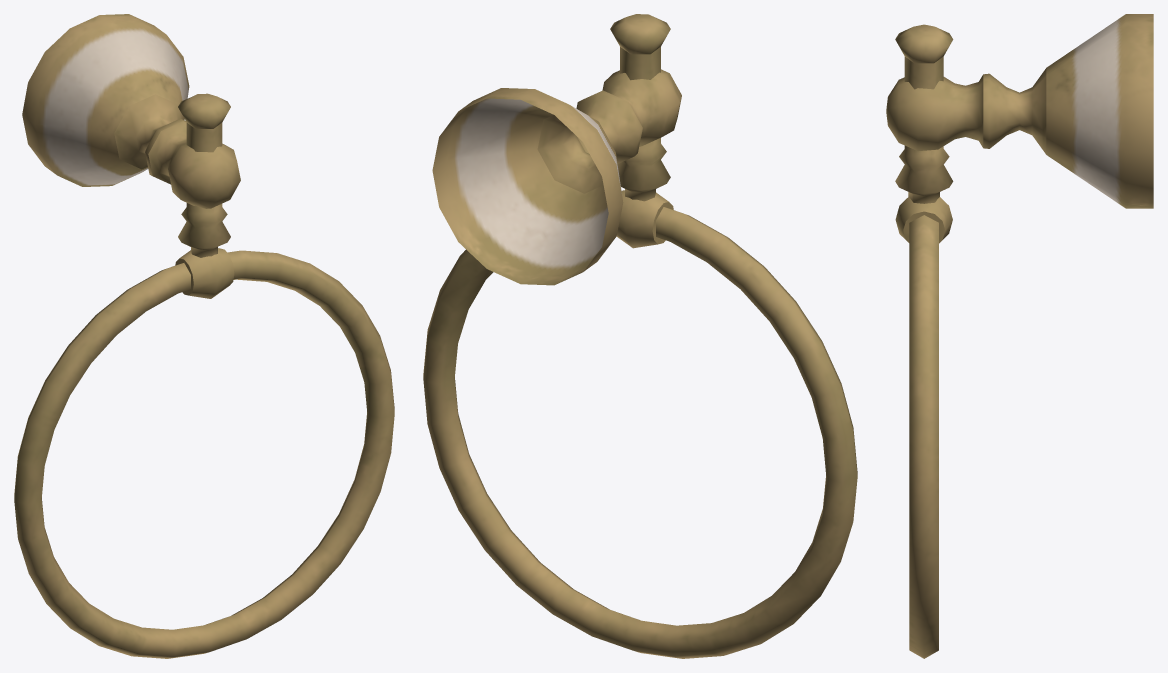
File: TowelHolder_D.fbx
3 renders of one model, left to right at view 1: azimuth 30°, elevation 25°; view 2: azimuth 150°, elevation 25°; view 3: azimuth 270°, elevation 25°, orthographic. The views are drawn at different scales.
Visible parts, largest first — view 1: TowelHolder_D; view 2: TowelHolder_D; view 3: TowelHolder_D.
Part boxes in pixels (x1,y1,x2,y2): TowelHolder_D: (14,14,394,658); TowelHolder_D: (423,14,857,658); TowelHolder_D: (886,14,1153,658).
Bounding box in the file's own units: 17.23 × 24.32 × 9.61.
